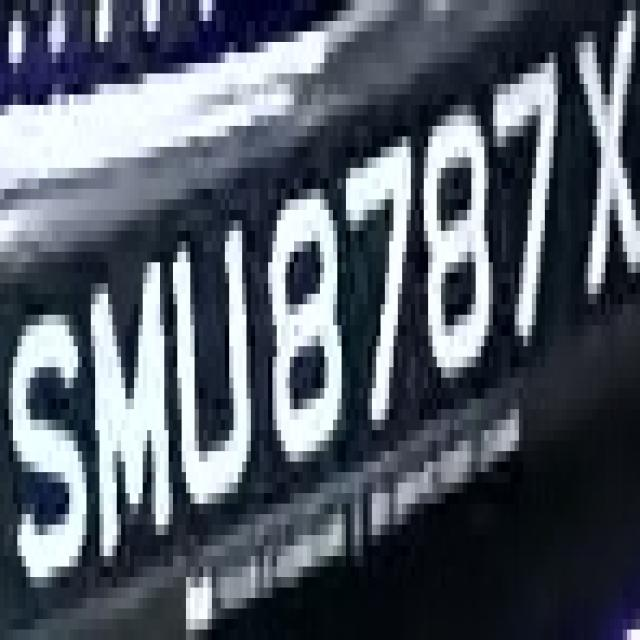7: (329, 126, 415, 462), (480, 94, 562, 388)
8: (411, 74, 493, 409), (259, 158, 346, 472)
M: (86, 231, 182, 566)
S: (5, 262, 86, 577)
U: (160, 210, 255, 556)
X: (566, 21, 640, 336)
